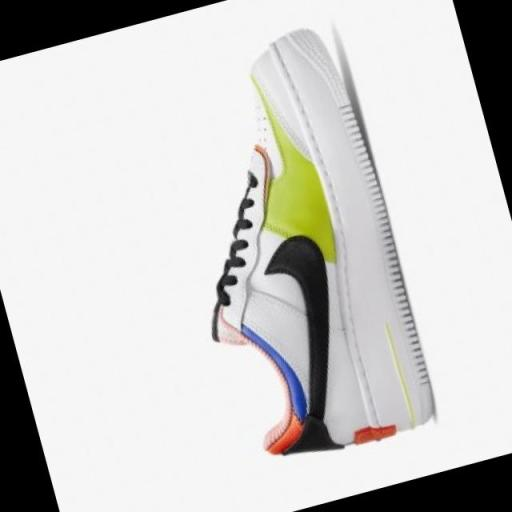Nike: (254, 227, 372, 437)
